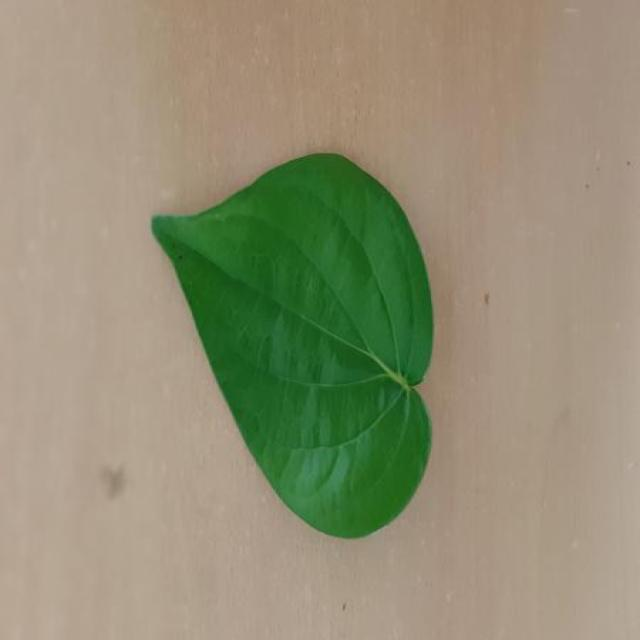betel: (152, 154, 432, 538)
